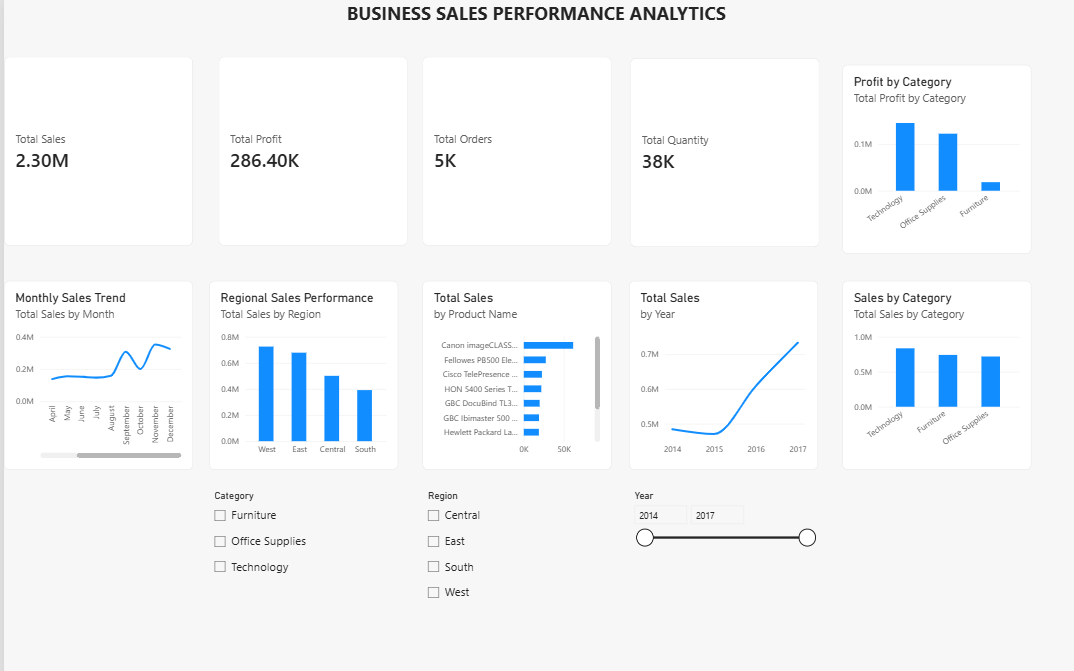

What the dashboard file says about the page in this screenshot:
{"tool":"powerbi","page":{"name":"Page 1","canvas":[1920,1080],"ordinal":0},"visuals":[{"type":"cardVisual","fields":{"Data":["Sample - Superstore.Total Sales"]},"box":[0,84,280,280],"z":0},{"type":"cardVisual","fields":{"Data":["Sample - Superstore.Total Profit"]},"box":[318.8,83.2,280,280],"z":1000},{"type":"cardVisual","fields":{"Data":["Sample - Superstore.Total Orders"]},"box":[619.7,83.2,280,280],"z":2000},{"type":"cardVisual","fields":{"Data":["Sample - Superstore.Total Quantity"]},"box":[928.6,85.1,280,280],"z":3000},{"type":"lineChart","fields":{"Category":["Sample - Superstore.Order Date.Variation.Date Hierarchy.Year","Sample - Superstore.Order Date.Variation.Date Hierarchy.Quarter","Sample - Superstore.Order Date.Variation.Date Hierarchy.Month","Sample - Superstore.Order Date.Variation.Date Hierarchy.Day"],"Y":["Sample - Superstore.Total Sales"]},"box":[926.6,415.8,280,280],"z":4000},{"type":"lineChart","title":"Monthly Sales Trend","fields":{"Category":["Sample - Superstore.Order Date.Variation.Date Hierarchy.Month"],"Y":["Sample - Superstore.Total Sales"]},"box":[0,415.3,280,280],"z":5000},{"type":"clusteredColumnChart","title":"Sales by Category","fields":{"Category":["Sample - Superstore.Category"],"Y":["Sample - Superstore.Total Sales"]},"box":[1241.5,415.8,280,280],"z":6000},{"type":"clusteredBarChart","fields":{"Category":["Sample - Superstore.Product Name"],"Y":["Sample - Superstore.Total Sales"]},"box":[619.7,415.8,280,280],"z":7000},{"type":"clusteredColumnChart","title":"Regional Sales Performance","fields":{"Category":["Sample - Superstore.Region"],"Y":["Sample - Superstore.Total Sales"]},"box":[304.7,415.3,280,280],"z":8000},{"type":"clusteredColumnChart","title":"Profit by Category","fields":{"Category":["Sample - Superstore.Category"],"Y":["Sample - Superstore.Total Profit"]},"box":[1241.7,96.7,280,280],"z":9000},{"type":"slicer","fields":{"Values":["Sample - Superstore.Order Date.Variation.Date Hierarchy.Year"]},"box":[926.8,725.5,280,280],"z":10000},{"type":"slicer","fields":{"Values":["Sample - Superstore.Region"]},"box":[620.3,725.5,280,280],"z":11000},{"type":"slicer","fields":{"Values":["Sample - Superstore.Category"]},"box":[304.7,725.5,280,280],"z":12000},{"type":"textbox","box":[0,0,1920,84],"z":13000}]}

Visuals, with their boxes on the page's 1920x1080 design canvas (x1, y1, x2, y2). These are canvas units, not pixel positions in the 1074x671 screenshot, which may show the page scaled, cropped or inside an application window:
cardVisual - Sample - Superstore.Total Sales: l=0, t=84, r=280, b=364
cardVisual - Sample - Superstore.Total Profit: l=319, t=83, r=599, b=363
cardVisual - Sample - Superstore.Total Orders: l=620, t=83, r=900, b=363
cardVisual - Sample - Superstore.Total Quantity: l=929, t=85, r=1209, b=365
lineChart - Sample - Superstore.Order Date.Variation.Date Hierarchy.Year x Sample - Superstore.Order Date.Variation.Date Hierarchy.Quarter: l=927, t=416, r=1207, b=696
"Monthly Sales Trend" lineChart: l=0, t=415, r=280, b=695
"Sales by Category" clusteredColumnChart: l=1242, t=416, r=1522, b=696
clusteredBarChart - Sample - Superstore.Product Name x Sample - Superstore.Total Sales: l=620, t=416, r=900, b=696
"Regional Sales Performance" clusteredColumnChart: l=305, t=415, r=585, b=695
"Profit by Category" clusteredColumnChart: l=1242, t=97, r=1522, b=377
slicer - Sample - Superstore.Order Date.Variation.Date Hierarchy.Year: l=927, t=726, r=1207, b=1006
slicer - Sample - Superstore.Region: l=620, t=726, r=900, b=1006
slicer - Sample - Superstore.Category: l=305, t=726, r=585, b=1006
textbox: l=0, t=0, r=1920, b=84
